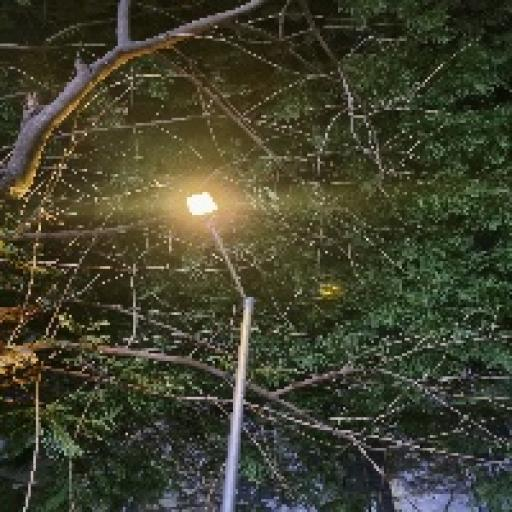Working: (178, 184, 226, 230)
